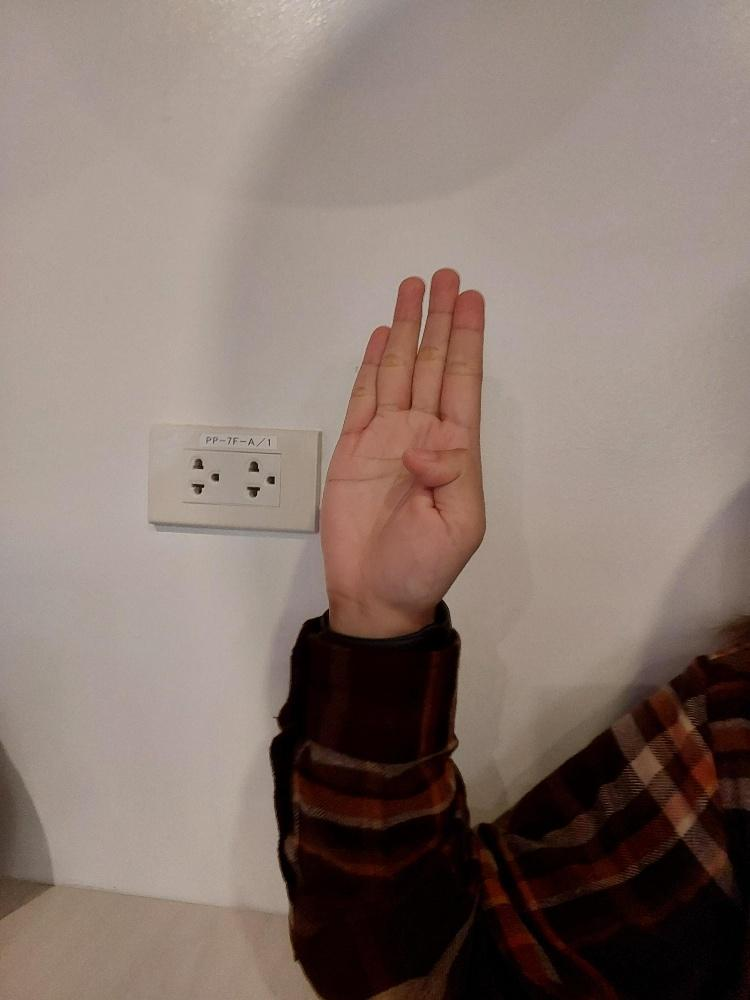b: (310, 260, 496, 622)
